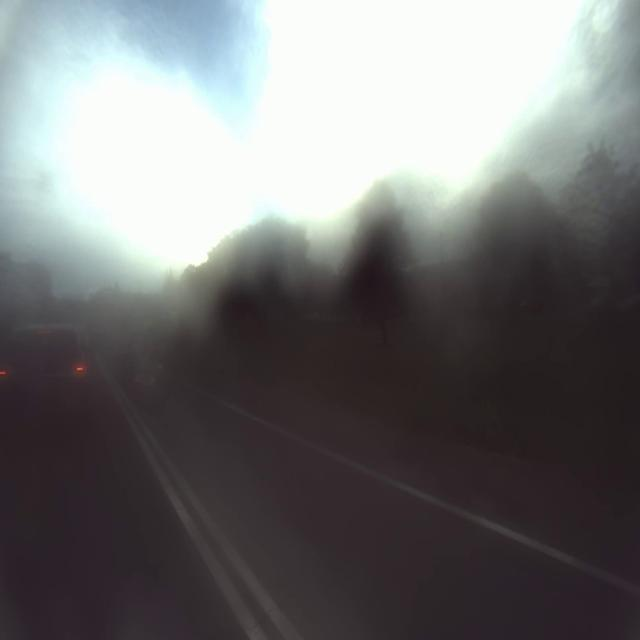car: (6, 314, 96, 434)
